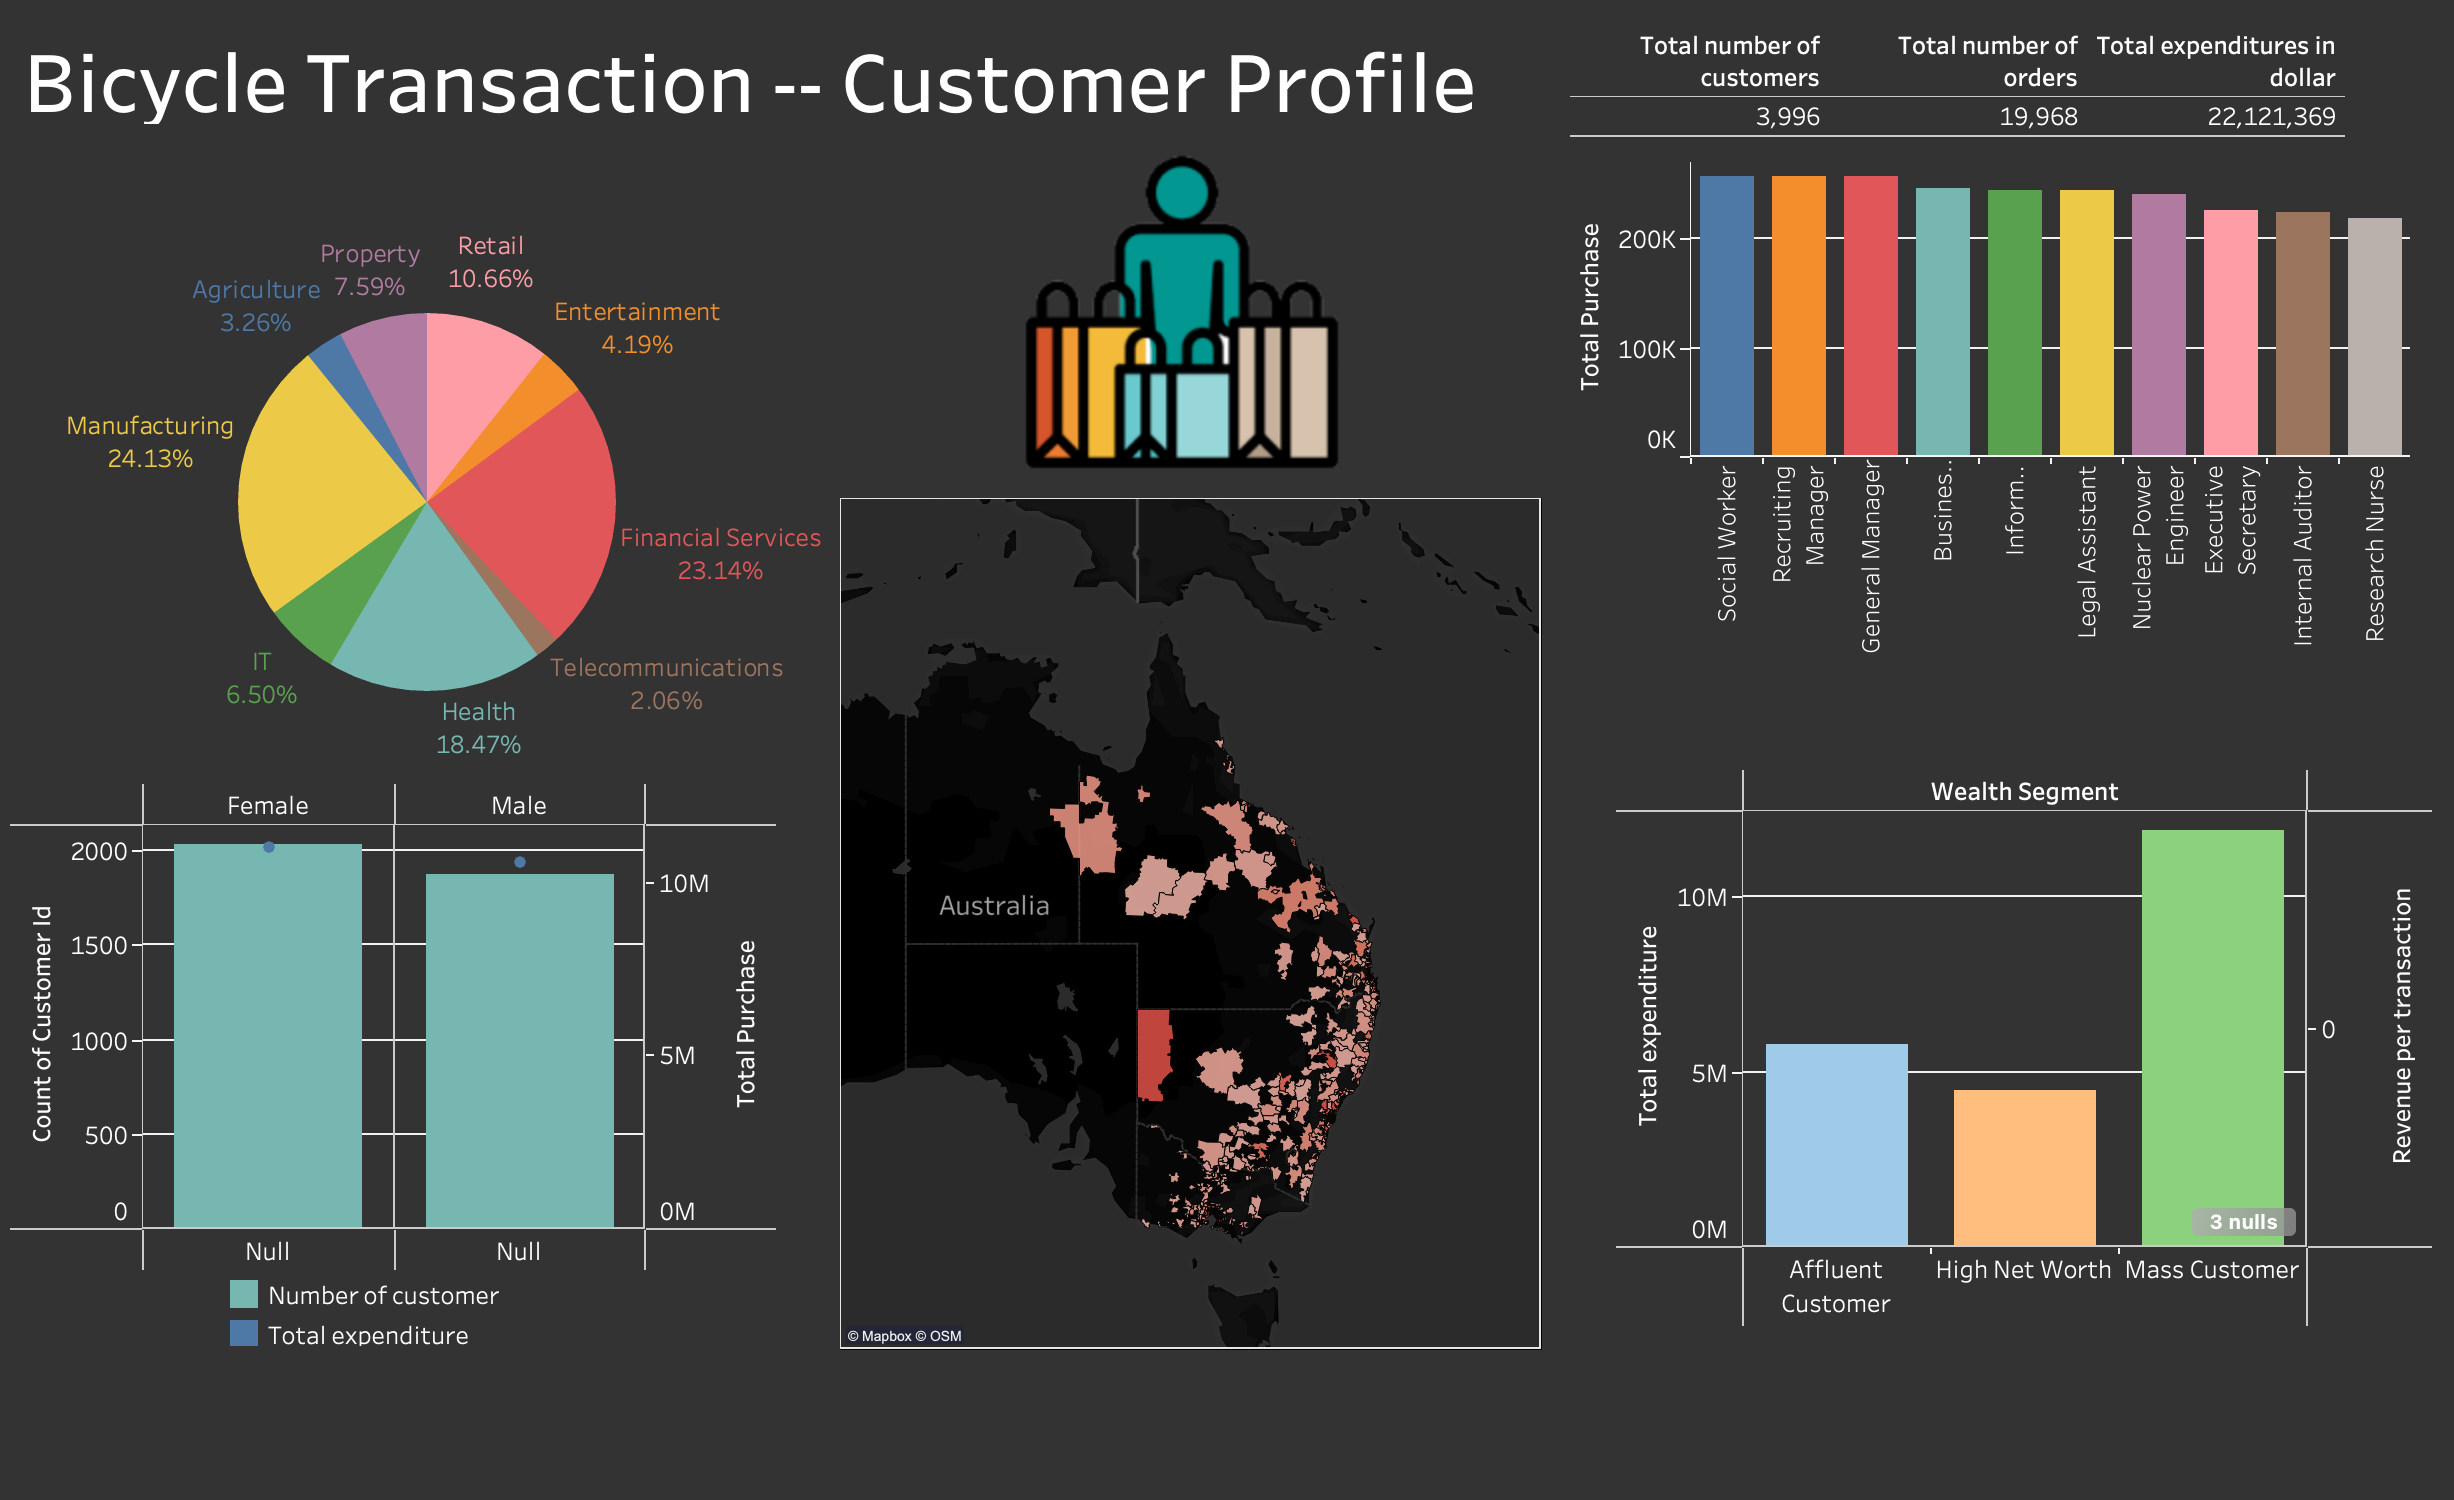

What the dashboard file says about the page in this screenshot:
{"tool":"tableau","page":{"name":"Customer_profile","canvas":[1000,1000],"units":"permille","ordinal":0},"visuals":[{"type":"title","box":[6.5,9.9,987,78]},{"type":"worksheet","title":"customer_sum","mark":"Automatic","box":[640.5,11.1,332.8,82.9]},{"type":"image","param":"Image/customer.png","box":[400.8,96.5,162.8,220.3]},{"type":"worksheet","title":"purchase_jobtitle","mark":"Automatic","rows":["total_purchase"],"cols":["job_title"],"box":[635.6,107.7,346.6,326.7]},{"type":"worksheet","title":"geo_purchase","mark":"Automatic","box":[343.3,329.2,285.8,564.4]},{"type":"worksheet","title":"wealthsegment_expenditure","mark":"Bar","rows":["total_purchase","Calculation_951103988063195137"],"cols":["wealth_segment"],"box":[659.1,509.9,332.8,370.1]},{"type":"worksheet","title":"age_purchase_gender","mark":"Line","rows":["customer_id","total_purchase"],"cols":["gender","Age (bin)"],"box":[5.7,518.6,312.6,323]},{"type":"legend","title":"age_purchase_gender","param":"[federated.00wbm010f53lby14yuq0z029taaw].[:Measure Names]","box":[93.1,844.1,132,47]}]}

Visuals, with their boxes on the dashboard's canvas, which has no fixed pixel size, in thousandths of its width and height (x1, y1, x2, y2). These are canvas units, not pixel positions in the 2454x1500 screenshot, which may show the page scaled, cropped or inside an application window:
title: 6 10 994 88
"customer_sum" worksheet: 640 11 973 94
image: 401 96 564 317
"purchase_jobtitle" worksheet: 636 108 982 434
"geo_purchase" worksheet: 343 329 629 894
"wealthsegment_expenditure" worksheet (Bar marks): 659 510 992 880
"age_purchase_gender" worksheet (Line marks): 6 519 318 842
"age_purchase_gender" legend: 93 844 225 891
